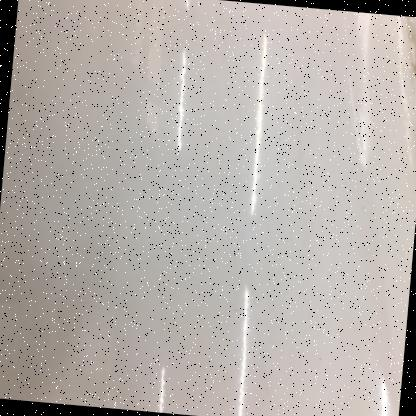Nocrack: (30, 1, 404, 406)
